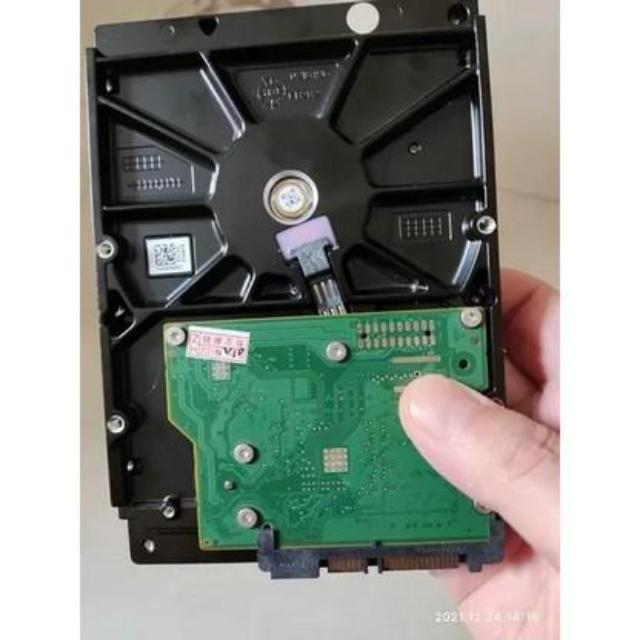DISK: (80, 0, 511, 586)
